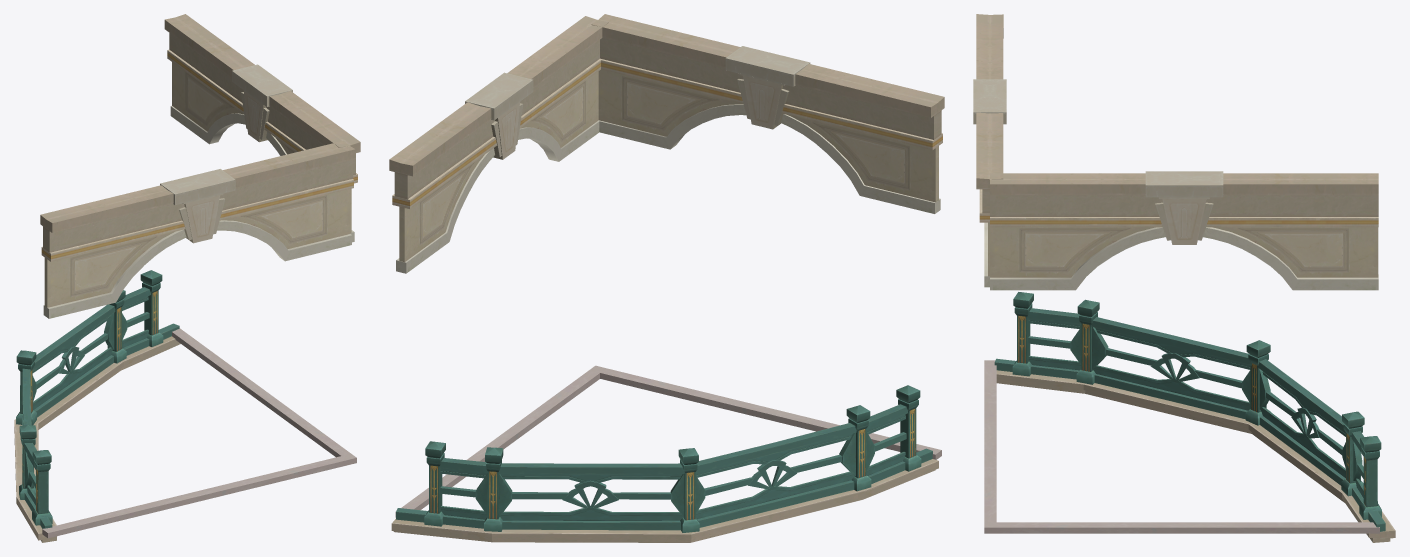
File: Homeworld_Interior_Fd_Room_Wall_09_Vo.fbx
3 views of the same model, side by side, from view 1: azimuth 30°, elevation 25°; view 2: azimuth 150°, elevation 25°; view 3: azimuth 270°, elevation 25° (orthographic). The views are drawn at different scales.
Visible parts, largest first — view 1: Homeworld_Interior_Fd_Room_Wall_09_Vo; view 2: Homeworld_Interior_Fd_Room_Wall_09_Vo; view 3: Homeworld_Interior_Fd_Room_Wall_09_Vo.
Part boxes in pixels (x1,y1,x2,y2): Homeworld_Interior_Fd_Room_Wall_09_Vo: [14, 14, 360, 542]; Homeworld_Interior_Fd_Room_Wall_09_Vo: [389, 14, 944, 542]; Homeworld_Interior_Fd_Room_Wall_09_Vo: [973, 14, 1395, 542].
Bounding box in the file's own units: 5.3 × 5.15 × 5.43.
